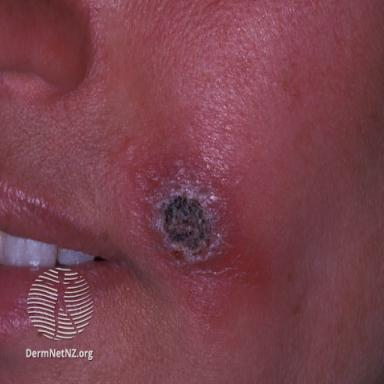Leishmanios: (147, 160, 228, 264)
